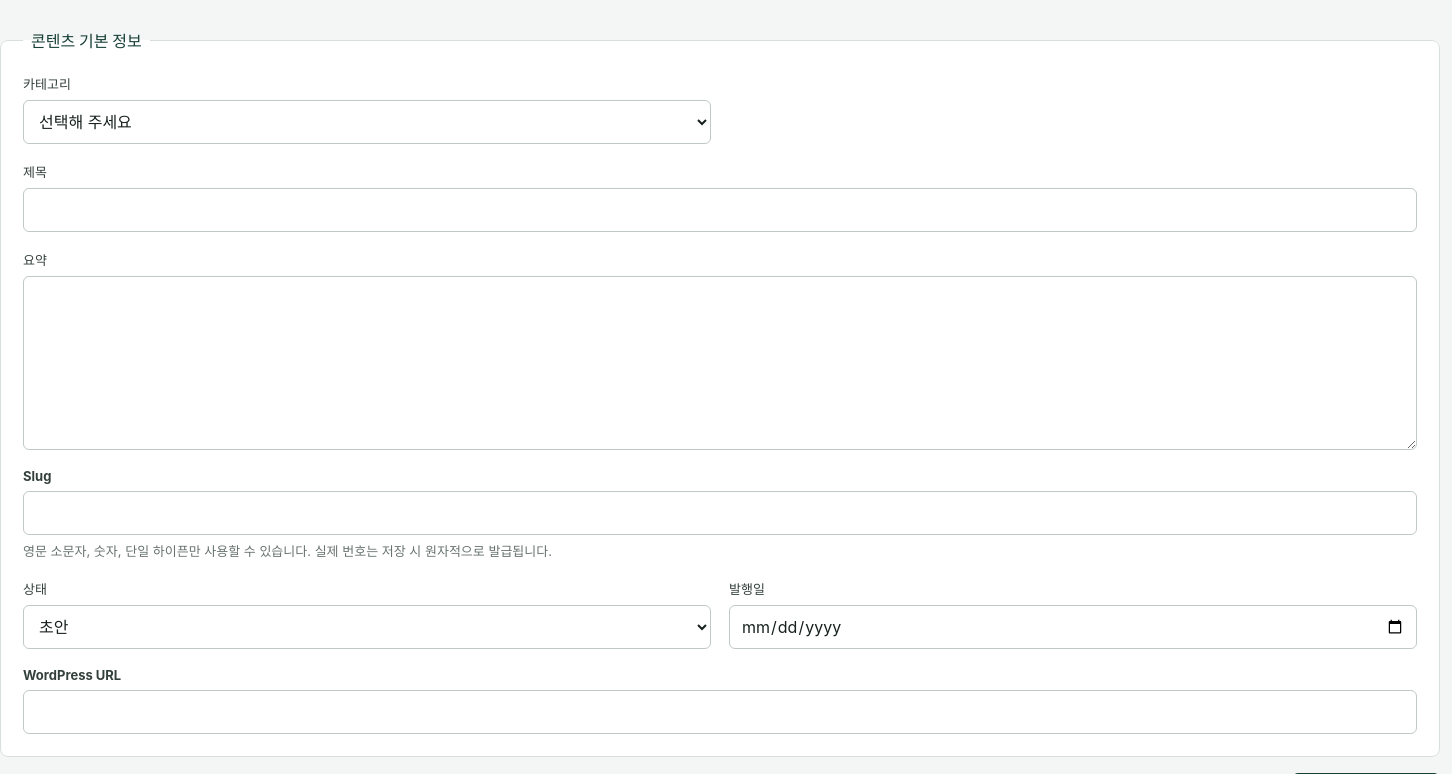
PostForm › climate-energy 선택과 날짜 변경 시 slug 미리보기를 갱신한다
Select "환경·에너지" in the dropdown labelled "카테고리" at (367, 122), box [23,100,711,144]
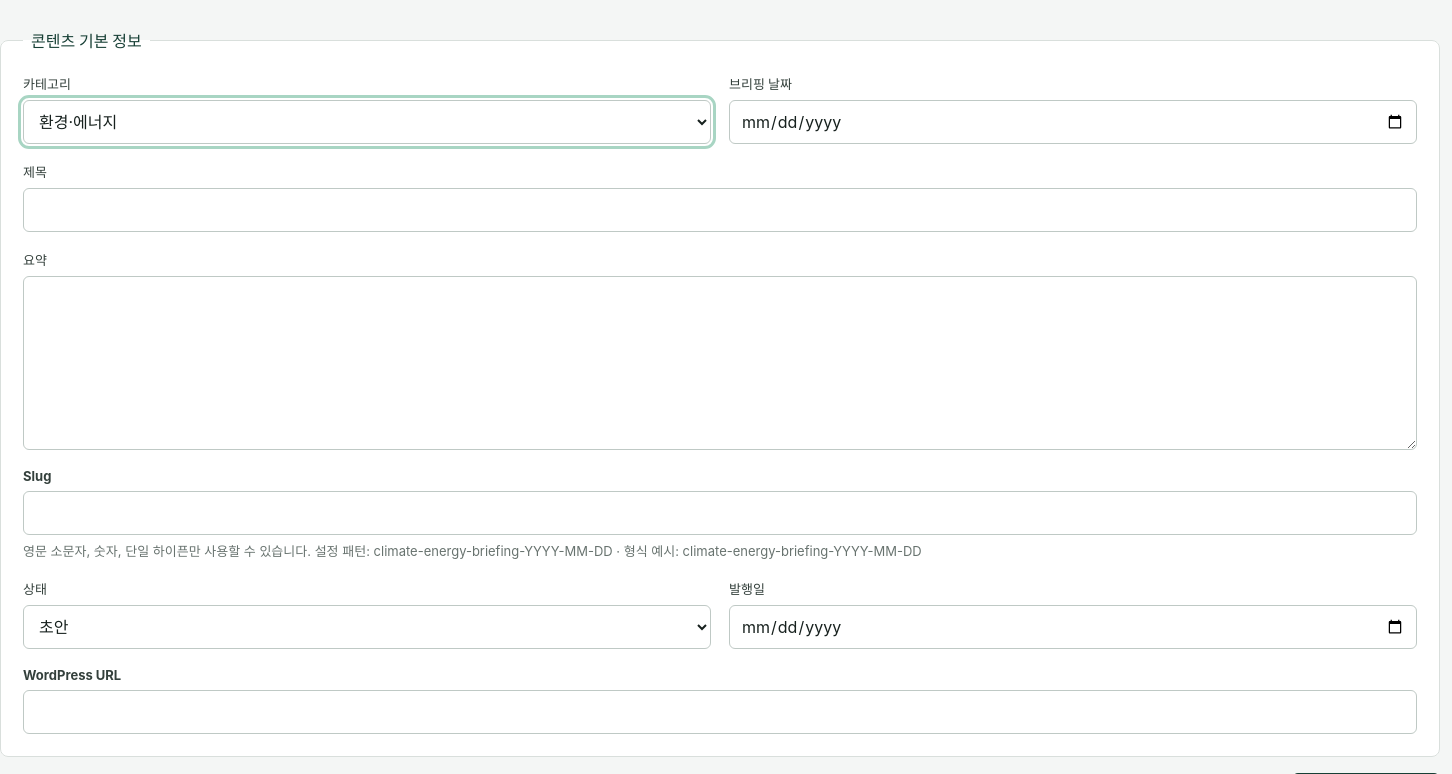
Type "2026-07-16" into the date field labelled "브리핑 날짜" at (1073, 122), box [729,100,1417,144]
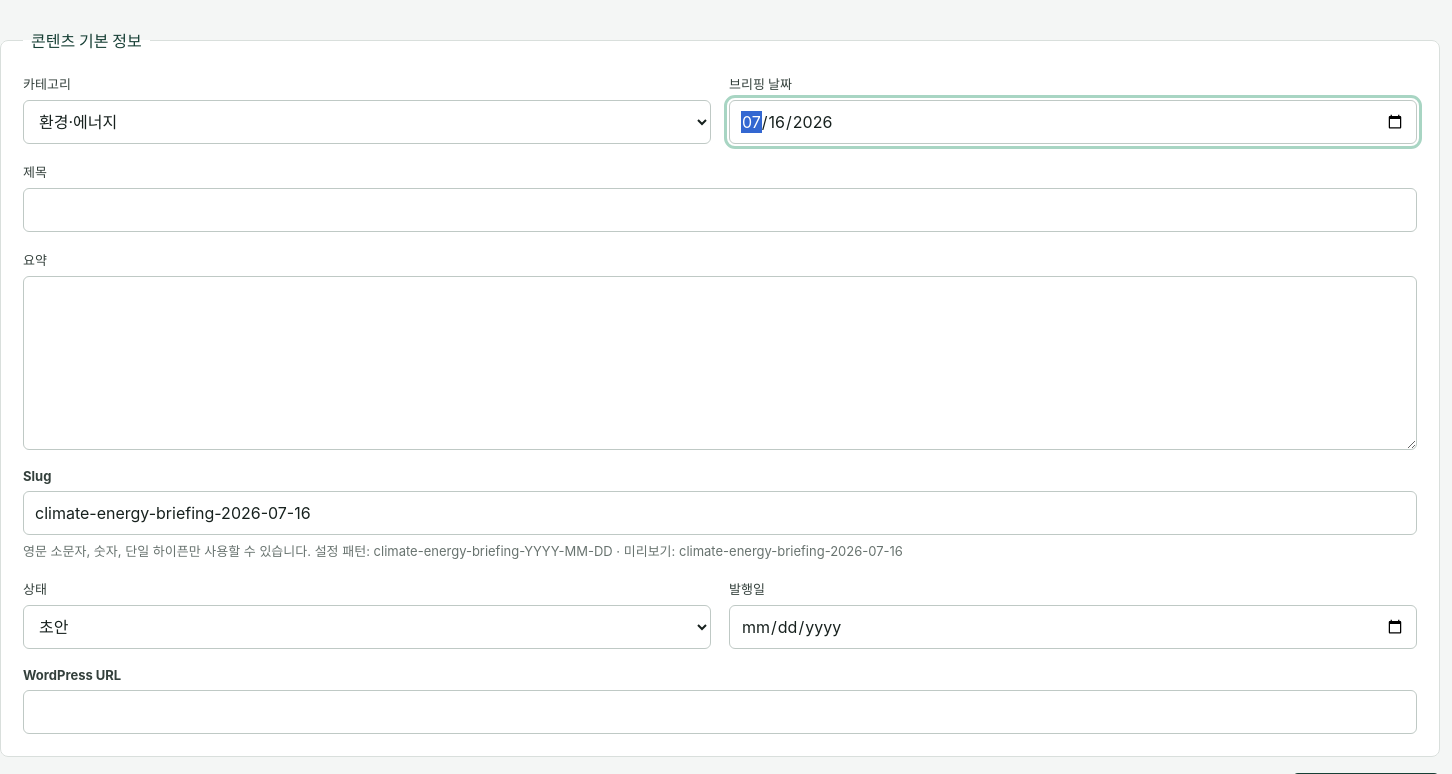
Now the field labelled "Slug" holds "climate-energy-briefing-2026-07-16", box [23,491,1417,535]
